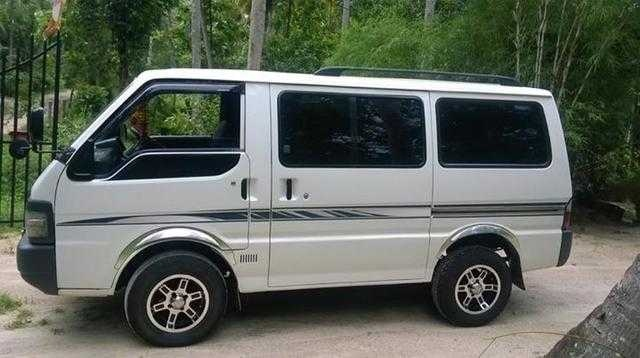van: (17, 66, 574, 348)
